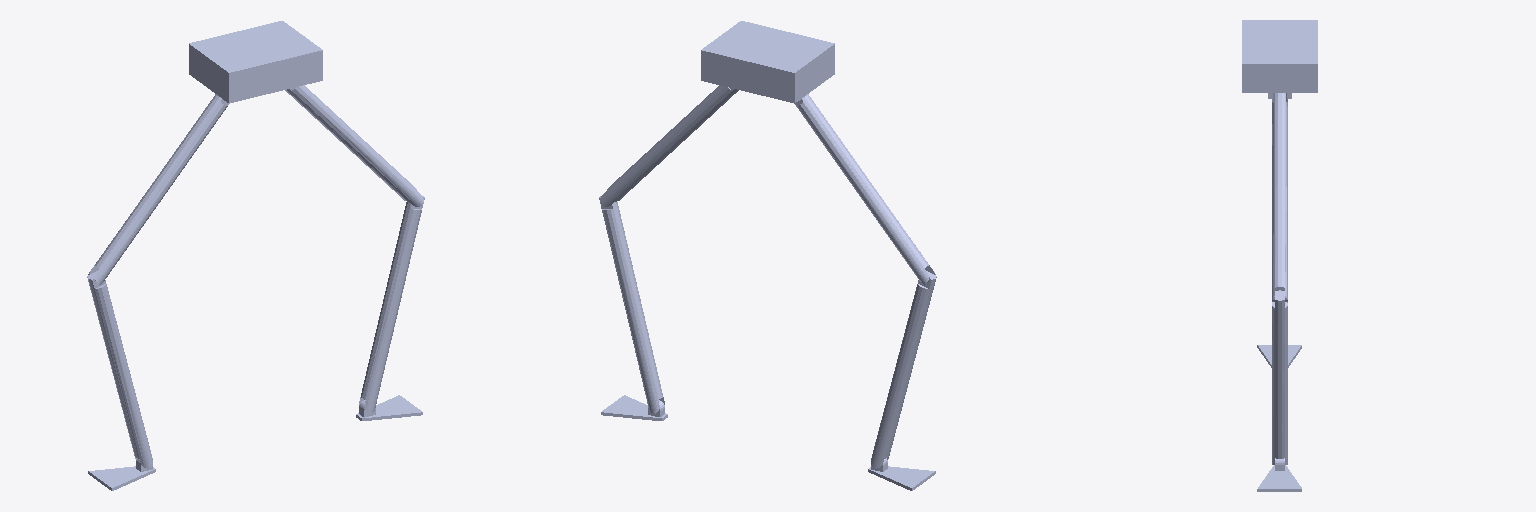
robot.urdf — NABI_angle:
<?xml version="1.0" encoding="utf-8"?>
<!-- This URDF was automatically created by SolidWorks to URDF Exporter! Originally created by [author] ([email redacted]) 
     Commit Version: 1.6.0-1-g15f4949  Build Version: 1.6.7594.29634
     For more information, please see http://wiki.ros.org/sw_urdf_exporter -->
<robot
  name="NABI_angle">
  <link
    name="base_link">
    <inertial>
      <origin
        xyz="1.9621E-06 -6.2757E-07 0.62551"
        rpy="0 0 0" />
      <mass
        value="0.88263" />
      <inertia
        ixx="0.0012436"
        ixy="-1.6164E-08"
        ixz="6.6629E-08"
        iyy="0.0021092"
        iyz="-2.1311E-08"
        izz="0.0029573" />
    </inertial>
    <visual>
      <origin
        xyz="0 0 0"
        rpy="0 0 0" />
      <geometry>
        <mesh
          filename="base_link.STL" />
      </geometry>
      <material
        name="">
        <color
          rgba="0.79216 0.81961 0.93333 1" />
      </material>
    </visual>
    <collision>
      <origin
        xyz="0 0 0"
        rpy="0 0 0" />
      <geometry>
        <mesh
          filename="base_link.STL" />
      </geometry>
    </collision>
  </link>
  <link
    name="Femur1">
    <inertial>
      <origin
        xyz="-3.0676E-08 -0.00016605 -0.16171"
        rpy="0 0 0" />
      <mass
        value="0.16826" />
      <inertia
        ixx="0.0015674"
        ixy="-6.1273E-14"
        ixz="-4.1955E-11"
        iyy="0.0015674"
        iyz="-2.4904E-10"
        izz="1.3587E-05" />
    </inertial>
    <visual>
      <origin
        xyz="0 0 0"
        rpy="0 0 0" />
      <geometry>
        <mesh
          filename="Femur1.STL" />
      </geometry>
      <material
        name="">
        <color
          rgba="0.79216 0.81961 0.93333 1" />
      </material>
    </visual>
    <collision>
      <origin
        xyz="0 0 0"
        rpy="0 0 0" />
      <geometry>
        <mesh
          filename="Femur1.STL" />
      </geometry>
    </collision>
  </link>
  <joint
    name="Joint1"
    type="continuous">
    <origin
      xyz="0.05 0 0.58704"
      rpy="0 -0.7311 0" />
    <parent
      link="base_link" />
    <child
      link="Femur1" />
    <axis
      xyz="0 1 0" />
  </joint>
  <link
    name="Tibia1">
    <inertial>
      <origin
        xyz="2.059E-07 0.0027 -0.16234"
        rpy="0 0 0" />
      <mass
        value="0.1633" />
      <inertia
        ixx="0.0014323"
        ixy="-9.5339E-13"
        ixz="4.2483E-10"
        iyy="0.0014323"
        iyz="2.2888E-10"
        izz="1.3176E-05" />
    </inertial>
    <visual>
      <origin
        xyz="0 0 0"
        rpy="0 0 0" />
      <geometry>
        <mesh
          filename="Tibia1.STL" />
      </geometry>
      <material
        name="">
        <color
          rgba="0.79216 0.81961 0.93333 1" />
      </material>
    </visual>
    <collision>
      <origin
        xyz="0 0 0"
        rpy="0 0 0" />
      <geometry>
        <mesh
          filename="Tibia1.STL" />
      </geometry>
    </collision>
  </link>
  <joint
    name="Joint3"
    type="continuous">
    <origin
      xyz="0 -0.0028638 -0.33508"
      rpy="0 0.98708 0" />
    <parent
      link="Femur1" />
    <child
      link="Tibia1" />
    <axis
      xyz="0 1 0" />
  </joint>
  <link
    name="Foot1">
    <inertial>
      <origin
        xyz="0.032111 -0.014347 -0.0127"
        rpy="0 0 0" />
      <mass
        value="0.024354" />
      <inertia
        ixx="4.9617E-06"
        ixy="1.6835E-06"
        ixz="9.4771E-21"
        iyy="2.2188E-05"
        iyz="-1.3717E-21"
        izz="1.8506E-05" />
    </inertial>
    <visual>
      <origin
        xyz="0 0 0"
        rpy="0 0 0" />
      <geometry>
        <mesh
          filename="Foot1.STL" />
      </geometry>
      <material
        name="">
        <color
          rgba="0.79216 0.81961 0.93333 1" />
      </material>
    </visual>
    <collision>
      <origin
        xyz="0 0 0"
        rpy="0 0 0" />
      <geometry>
        <mesh
          filename="Foot1.STL" />
      </geometry>
    </collision>
  </link>
  <joint
    name="Joint5"
    type="continuous">
    <origin
      xyz="0 -0.01 -0.3288"
      rpy="1.5708 -0.25598 0" />
    <parent
      link="Tibia1" />
    <child
      link="Foot1" />
    <axis
      xyz="0 0 1" />
  </joint>
  <link
    name="Femur2">
    <inertial>
      <origin
        xyz="3.5111E-08 0.0127 -0.16171"
        rpy="0 0 0" />
      <mass
        value="0.16826" />
      <inertia
        ixx="0.0015674"
        ixy="1.9741E-13"
        ixz="1.145E-10"
        iyy="0.0015674"
        iyz="-2.5078E-10"
        izz="1.3587E-05" />
    </inertial>
    <visual>
      <origin
        xyz="0 0 0"
        rpy="0 0 0" />
      <geometry>
        <mesh
          filename="Femur2.STL" />
      </geometry>
      <material
        name="">
        <color
          rgba="0.79216 0.81961 0.93333 1" />
      </material>
    </visual>
    <collision>
      <origin
        xyz="0 0 0"
        rpy="0 0 0" />
      <geometry>
        <mesh
          filename="Femur2.STL" />
      </geometry>
    </collision>
  </link>
  <joint
    name="Joint2"
    type="continuous">
    <origin
      xyz="-0.05 -0.012866 0.58704"
      rpy="0 0.72939 0" />
    <parent
      link="base_link" />
    <child
      link="Femur2" />
    <axis
      xyz="0 1 0" />
  </joint>
  <link
    name="Tibia2">
    <inertial>
      <origin
        xyz="-2.093E-07 0.0027 -0.16234"
        rpy="0 0 0" />
      <mass
        value="0.1633" />
      <inertia
        ixx="0.0014323"
        ixy="6.1367E-13"
        ixz="-4.9041E-10"
        iyy="0.0014323"
        iyz="2.3922E-10"
        izz="1.3176E-05" />
    </inertial>
    <visual>
      <origin
        xyz="0 0 0"
        rpy="0 0 0" />
      <geometry>
        <mesh
          filename="Tibia2.STL" />
      </geometry>
      <material
        name="">
        <color
          rgba="0.79216 0.81961 0.93333 1" />
      </material>
    </visual>
    <collision>
      <origin
        xyz="0 0 0"
        rpy="0 0 0" />
      <geometry>
        <mesh
          filename="Tibia2.STL" />
      </geometry>
    </collision>
  </link>
  <joint
    name="Joint4"
    type="continuous">
    <origin
      xyz="0 0.010002 -0.33508"
      rpy="0 -0.98388 0" />
    <parent
      link="Femur2" />
    <child
      link="Tibia2" />
    <axis
      xyz="0 1 0" />
  </joint>
  <link
    name="Foot2">
    <inertial>
      <origin
        xyz="0.032111 -0.014347 0.0127"
        rpy="0 0 0" />
      <mass
        value="0.024354" />
      <inertia
        ixx="4.9617E-06"
        ixy="1.6835E-06"
        ixz="2.7975E-21"
        iyy="2.2188E-05"
        iyz="1.4724E-21"
        izz="1.8506E-05" />
    </inertial>
    <visual>
      <origin
        xyz="0 0 0"
        rpy="0 0 0" />
      <geometry>
        <mesh
          filename="Foot2.STL" />
      </geometry>
      <material
        name="">
        <color
          rgba="0.79216 0.81961 0.93333 1" />
      </material>
    </visual>
    <collision>
      <origin
        xyz="0 0 0"
        rpy="0 0 0" />
      <geometry>
        <mesh
          filename="Foot2.STL" />
      </geometry>
    </collision>
  </link>
  <joint
    name="Joint6"
    type="continuous">
    <origin
      xyz="0 -0.01 -0.3288"
      rpy="1.5708 -0.25449 -3.1416" />
    <parent
      link="Tibia2" />
    <child
      link="Foot2" />
    <axis
      xyz="0 0 1" />
  </joint>
</robot>

--- Render facts (derived) ---
3 views of the same robot in one strip: view 1: azimuth 30°, elevation 25°; view 2: azimuth 150°, elevation 25°; view 3: azimuth 270°, elevation 25° (orthographic).
Model NABI_angle with 7 links and 6 joints (6 continuous), rooted at base_link, posed every joint at zero.
Links seen in each view (by area): view 1: base_link, Femur2, Tibia1, Tibia2, Femur1, Foot2, Foot1; view 2: base_link, Femur2, Tibia1, Tibia2, Femur1, Foot2, Foot1; view 3: base_link, Femur1, Tibia1, Foot1.
Boxes of the visible links, x1=… form: base_link: x1=189, y1=21, x2=322, y2=103; Femur2: x1=88, y1=94, x2=228, y2=284; Tibia1: x1=359, y1=196, x2=424, y2=413; Tibia2: x1=87, y1=271, x2=152, y2=468; Femur1: x1=285, y1=85, x2=423, y2=206; Foot2: x1=88, y1=458, x2=155, y2=490; Foot1: x1=356, y1=395, x2=422, y2=420; base_link: x1=701, y1=21, x2=834, y2=103; Femur2: x1=795, y1=94, x2=935, y2=284; Tibia1: x1=599, y1=196, x2=664, y2=413; Tibia2: x1=871, y1=271, x2=936, y2=468; Femur1: x1=600, y1=85, x2=738, y2=206; Foot2: x1=868, y1=458, x2=935, y2=490; Foot1: x1=601, y1=395, x2=667, y2=420; base_link: x1=1242, y1=20, x2=1317, y2=98; Femur1: x1=1272, y1=93, x2=1287, y2=301; Tibia1: x1=1272, y1=290, x2=1287, y2=464; Foot1: x1=1257, y1=458, x2=1301, y2=491.
Bounding box of the posed robot: 0.5738 × 0.12 × 0.651 m (x, y, z).
Meshes: 7 distinct files referenced, 7 mesh visuals loaded (7 binary STL).